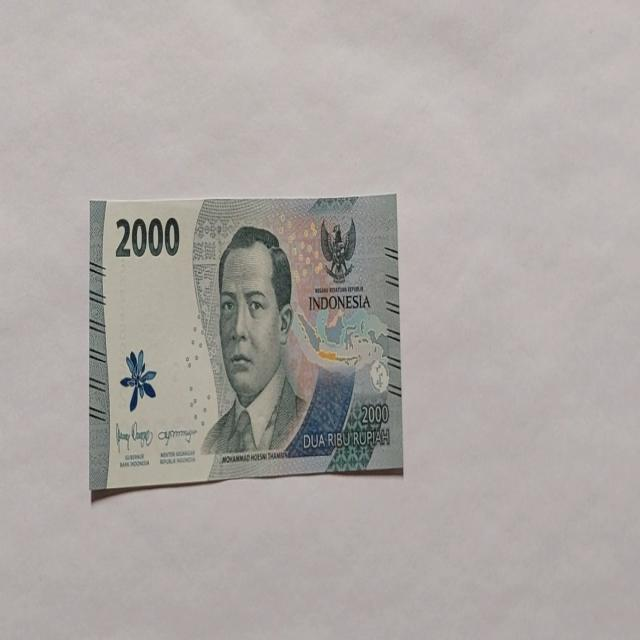dua ribu rupiah: (88, 193, 402, 499), (200, 225, 310, 460)
